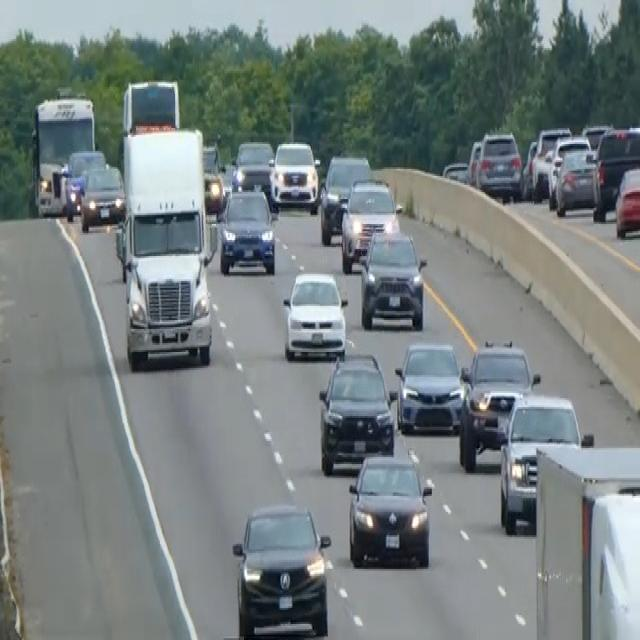bus: (29, 91, 96, 217)
car: (231, 500, 331, 638), (497, 391, 592, 533), (458, 338, 540, 471), (347, 450, 433, 569), (317, 350, 395, 475), (358, 226, 427, 330), (394, 338, 464, 434), (339, 176, 402, 274), (282, 268, 347, 361), (217, 185, 276, 275), (319, 151, 371, 244), (592, 124, 639, 220), (271, 137, 320, 211), (476, 128, 522, 201), (61, 147, 106, 220), (79, 160, 125, 231), (530, 124, 571, 201), (554, 146, 598, 217), (232, 137, 274, 194), (614, 164, 639, 238), (520, 137, 538, 197), (466, 137, 482, 185), (441, 158, 469, 185)
lorry: (114, 78, 218, 372)
